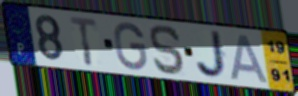8: (34, 14, 66, 62)
A: (229, 33, 272, 85)
G: (113, 21, 149, 73)
J: (194, 29, 230, 80)
S: (149, 23, 188, 77)
T: (68, 14, 99, 68)
